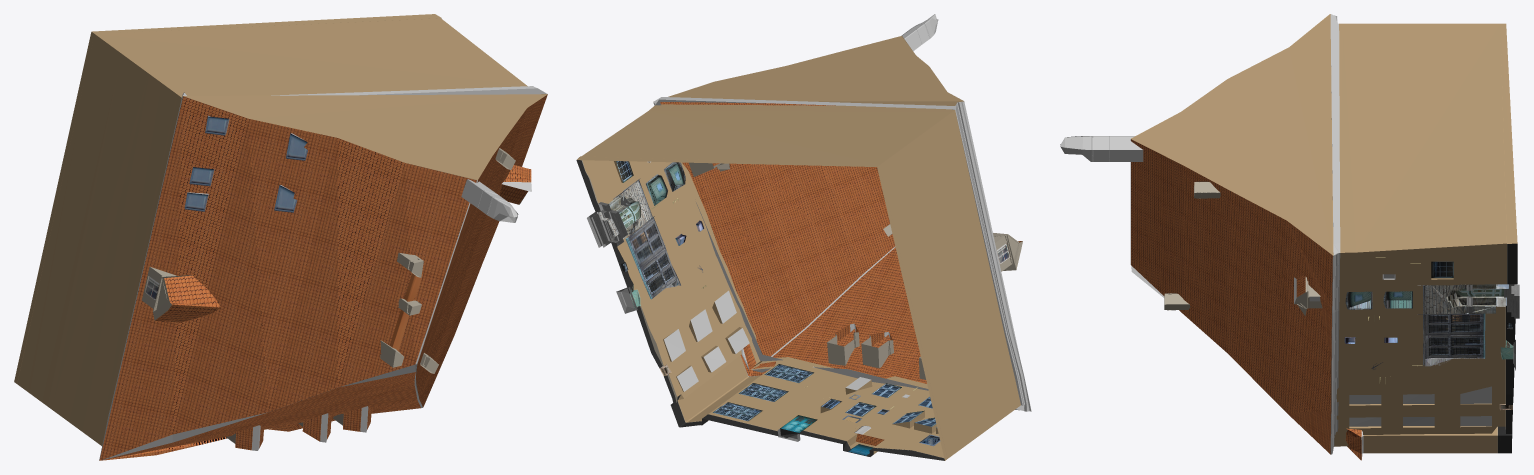
File: Vene_17-origo.obj
The picture shows the model from 3 angles, left to right: view 1: azimuth 30°, elevation 25°; view 2: azimuth 150°, elevation 25°; view 3: azimuth 270°, elevation 25°; orthographic projection. The views are drawn at different scales.
Visible parts, largest first — view 1: polySurface20; view 2: polySurface20; view 3: polySurface20.
Boxes of the visible parts, left/top/right/bottom form: polySurface20: left=14, top=14, right=547, bottom=460; polySurface20: left=576, top=14, right=1031, bottom=460; polySurface20: left=1060, top=14, right=1519, bottom=460.
Size of the model in its own units: 29.12 by 23.5 by 28.63.
